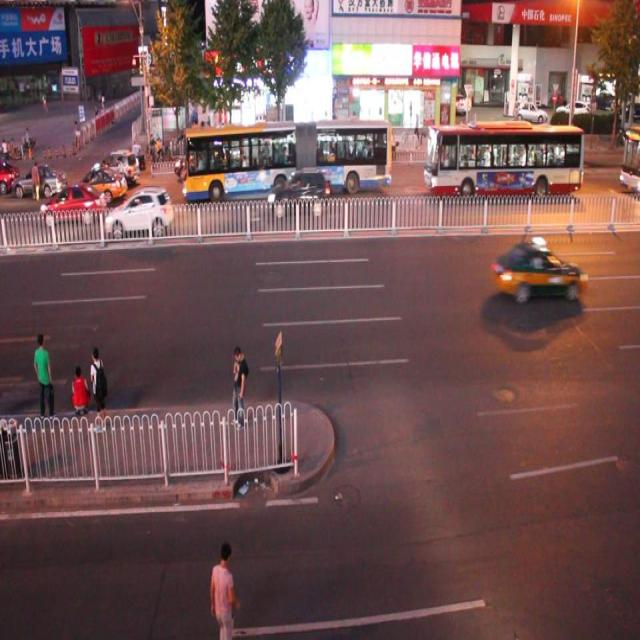car: (491, 238, 583, 302), (106, 186, 172, 232), (40, 181, 105, 226), (268, 168, 326, 216), (174, 140, 227, 181), (74, 164, 128, 202), (12, 164, 66, 199), (96, 148, 139, 186), (277, 140, 320, 176), (1, 158, 19, 194)
van: (181, 122, 393, 200), (423, 123, 582, 200), (617, 118, 640, 196)
